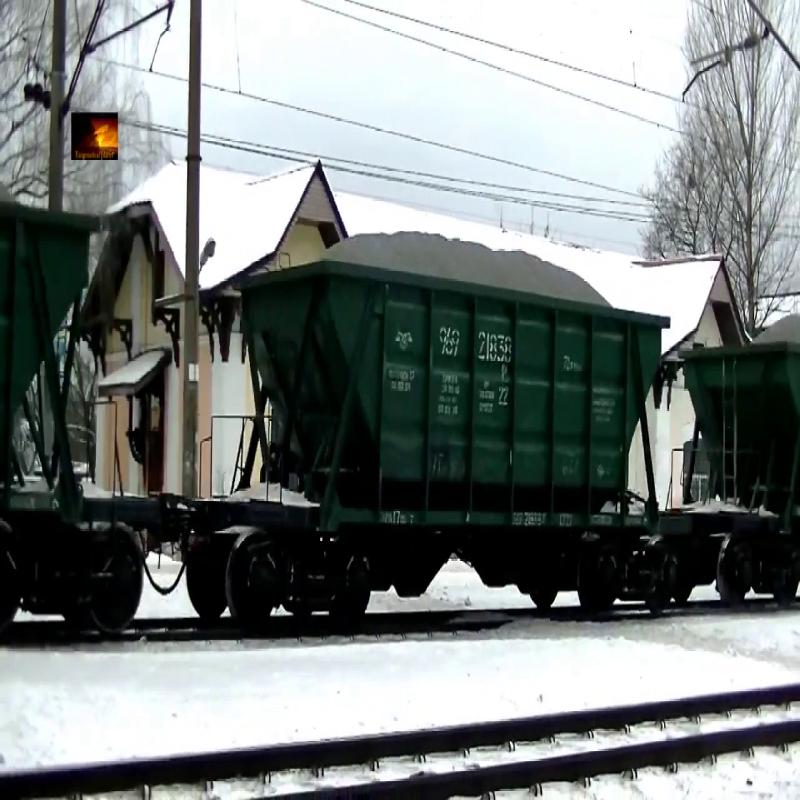train: (189, 234, 679, 654), (1, 152, 137, 611)
